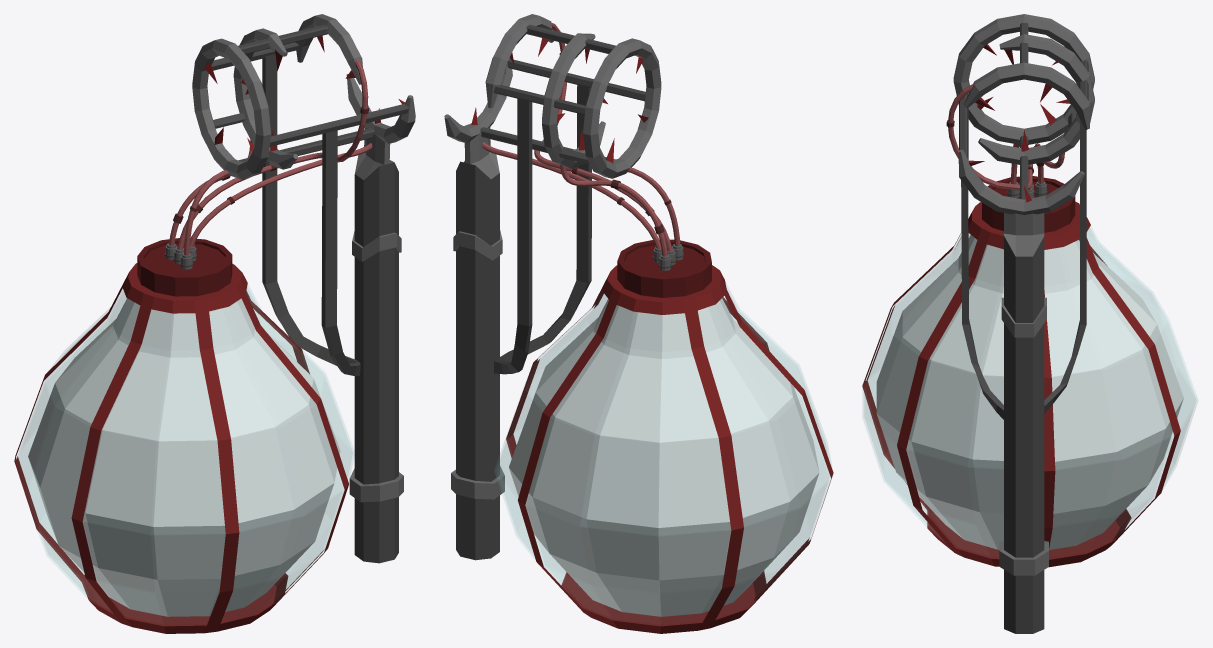
The model's file is taromatas.fbx.
3 renders of one model, left to right at view 1: azimuth 30°, elevation 25°; view 2: azimuth 150°, elevation 25°; view 3: azimuth 270°, elevation 25°, orthographic.
Parts seen in each view (by area): view 1: VaseOutside, VaseInside, Taromatas; view 2: VaseOutside, VaseInside, Taromatas; view 3: VaseOutside, VaseInside, Taromatas.
Boxes of the visible parts, <box> form: VaseOutside: <box>14,238,354,633</box>; VaseInside: <box>28,298,340,616</box>; Taromatas: <box>164,14,415,563</box>; VaseOutside: <box>494,239,833,633</box>; VaseInside: <box>509,298,819,616</box>; Taromatas: <box>444,14,683,560</box>; VaseOutside: <box>862,176,1197,567</box>; VaseInside: <box>876,235,1183,549</box>; Taromatas: <box>946,14,1094,633</box>.
Bounding box in the file's own units: 1.22 × 1.77 × 1.
